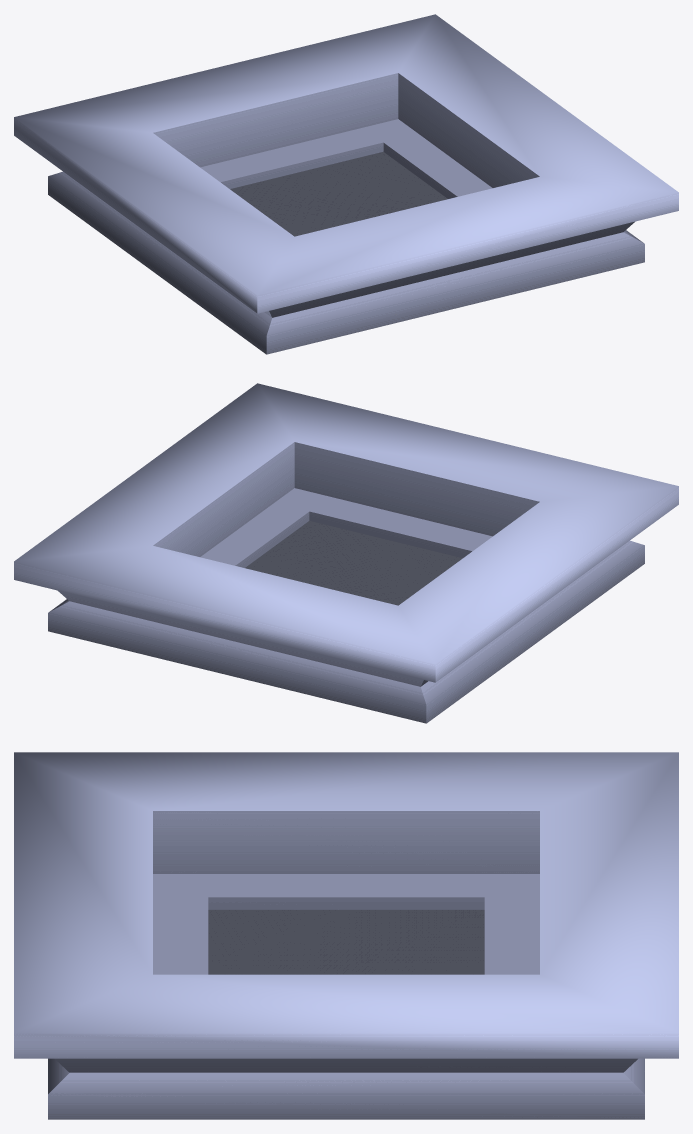
File: bk_roof.glb
3 views of the same model, one above another, from view 1: azimuth 30°, elevation 25°; view 2: azimuth 150°, elevation 25°; view 3: azimuth 270°, elevation 25° (orthographic). The views are drawn at different scales.
Visible parts, largest first — view 1: roof-flat-square; view 2: roof-flat-square; view 3: roof-flat-square.
Part boxes in pixels (box(x1,y1,x2,y2)): roof-flat-square: box(14, 14, 678, 354); roof-flat-square: box(14, 383, 678, 723); roof-flat-square: box(14, 752, 678, 1119).
Bounding box in the file's own units: 2.39 × 0.4 × 2.39.
Materials: 1 (1 with a texture image).
